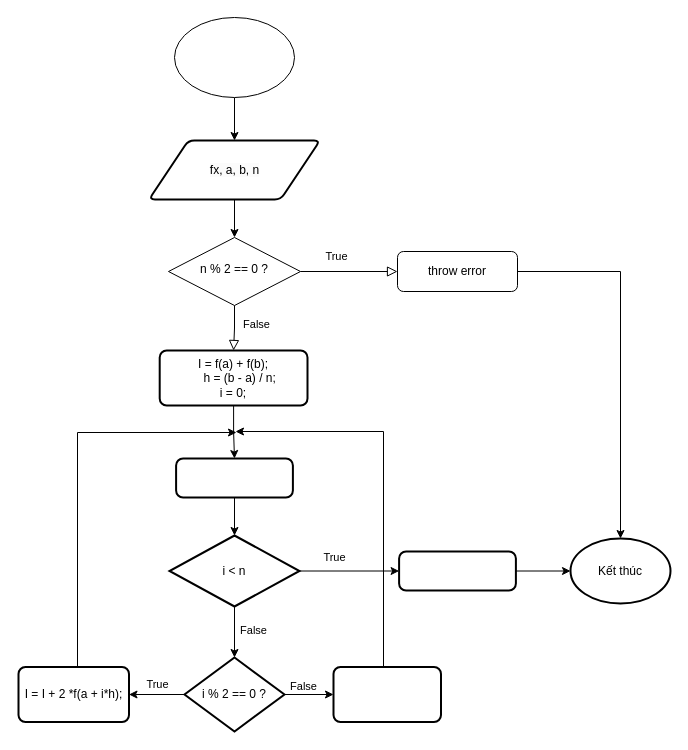
The diagram is 688 pixels wide and 750 high, and some of its shapes have lost their labels. The shapes that lost their labels are listed below. From the top down, each one's centre as x and y in pixels, then its label:
the point at 234,57: Bắt đầu
the point at 234,477: i = i + 1
the point at 457,570: I = h/3*I;
the point at 387,694: I = I + 4*f(a + i*h);
